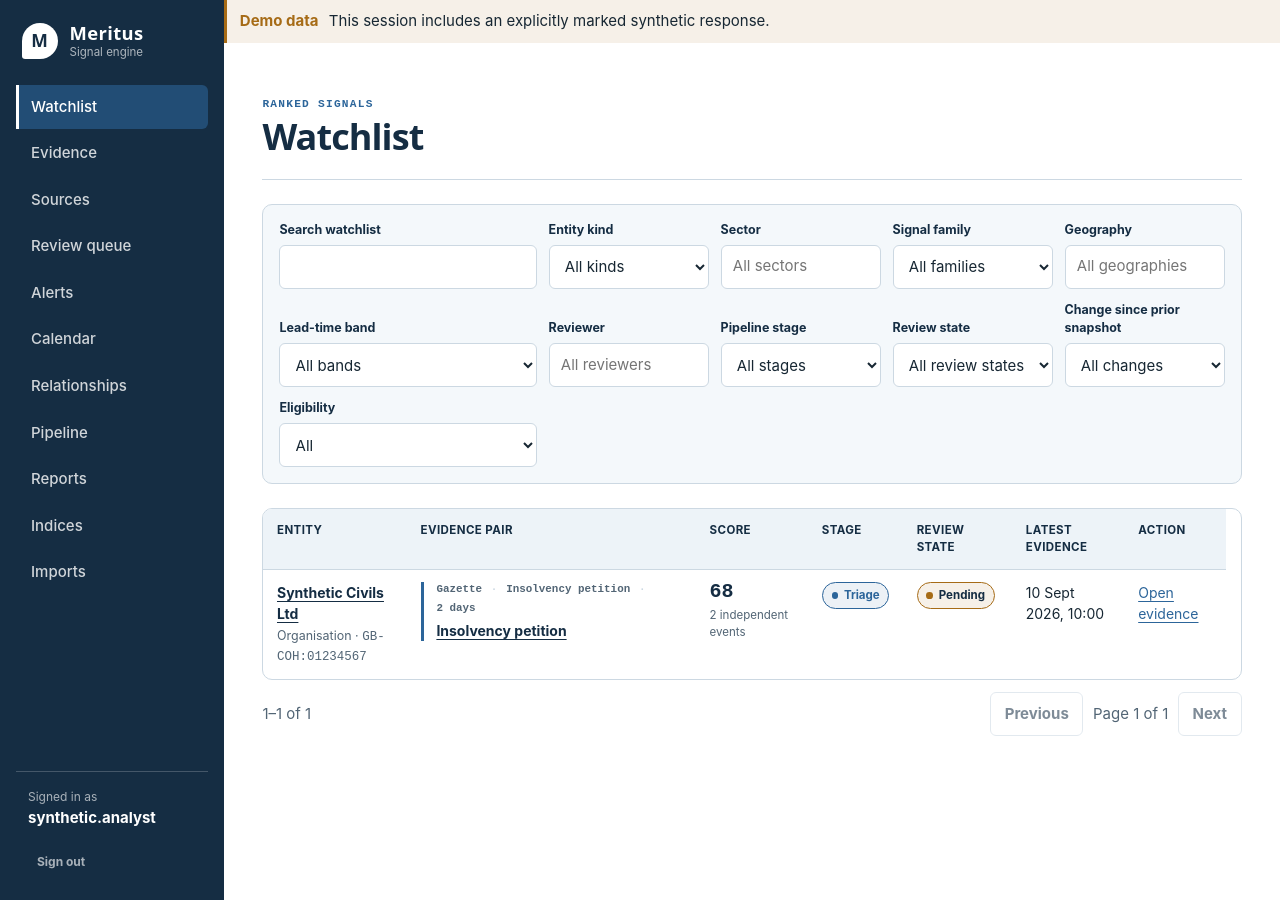
Test: analyst desk interactions › keeps failed review input available for correction
The image size is (1280, 900).
Click the link "Review queue" at (81, 246), box [31, 236, 131, 255]
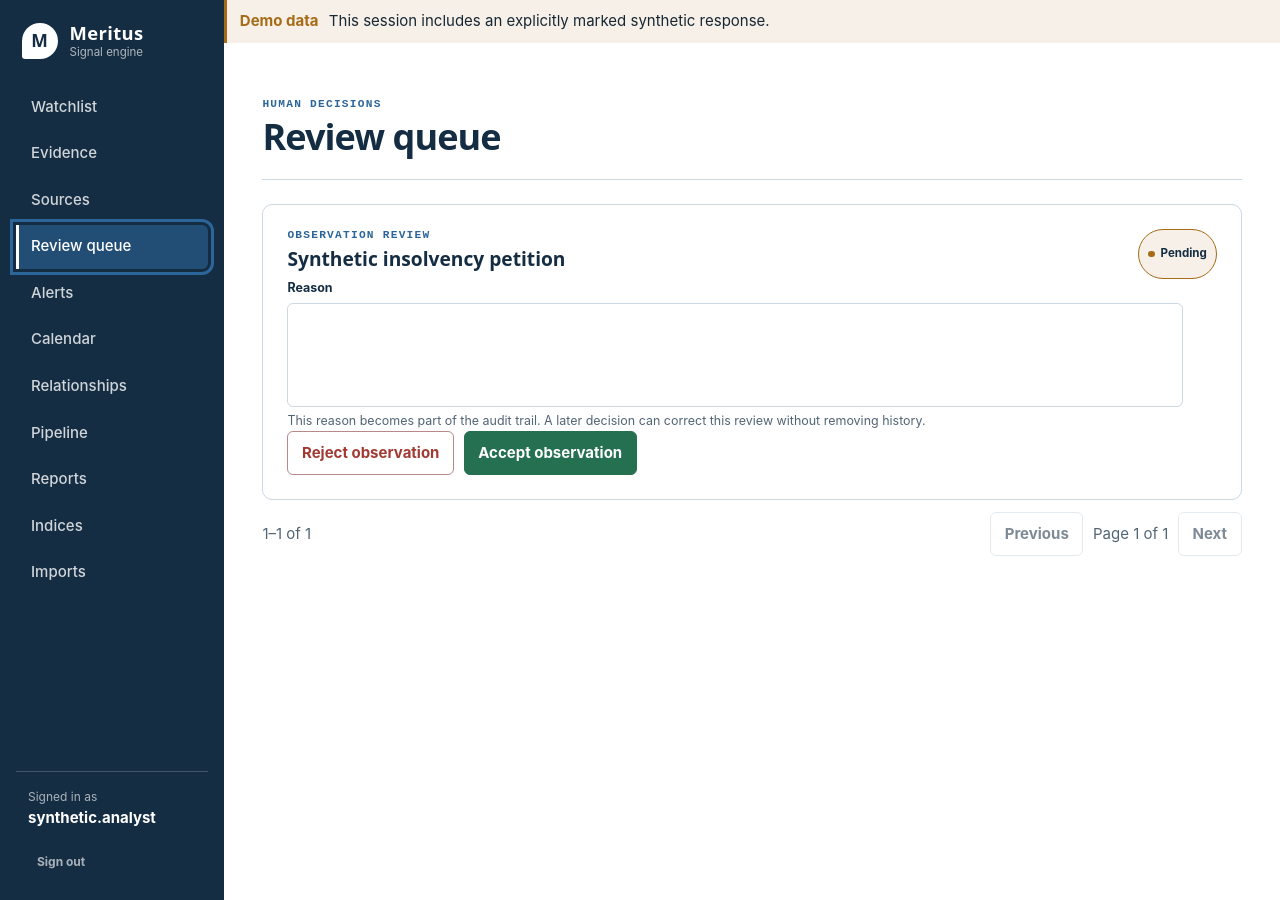
Type "Needs source confirmation" into the text box labelled "Reason" at (735, 355), box [287, 303, 1183, 407]
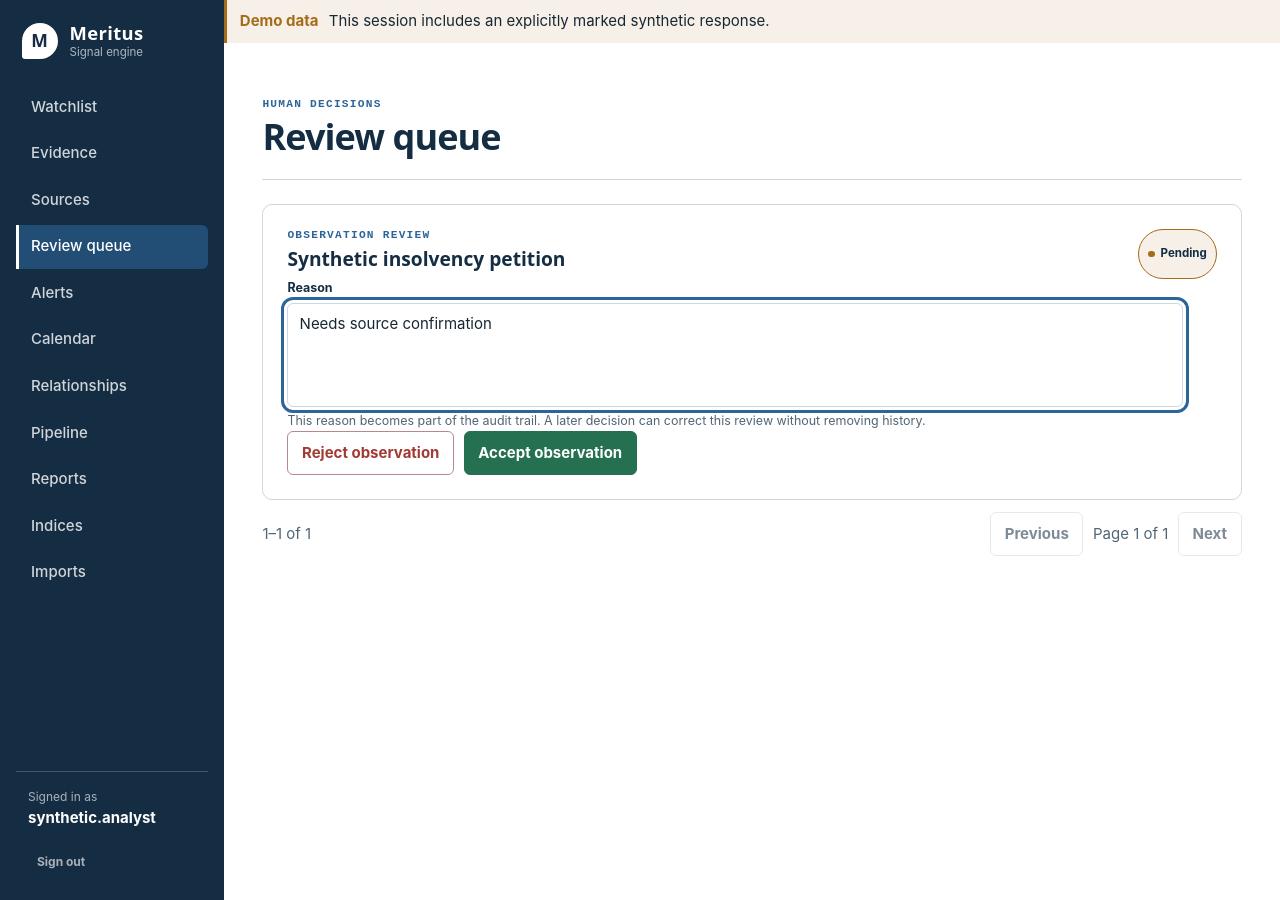
Click the button "Accept observation" at (550, 453), box [464, 431, 637, 475]
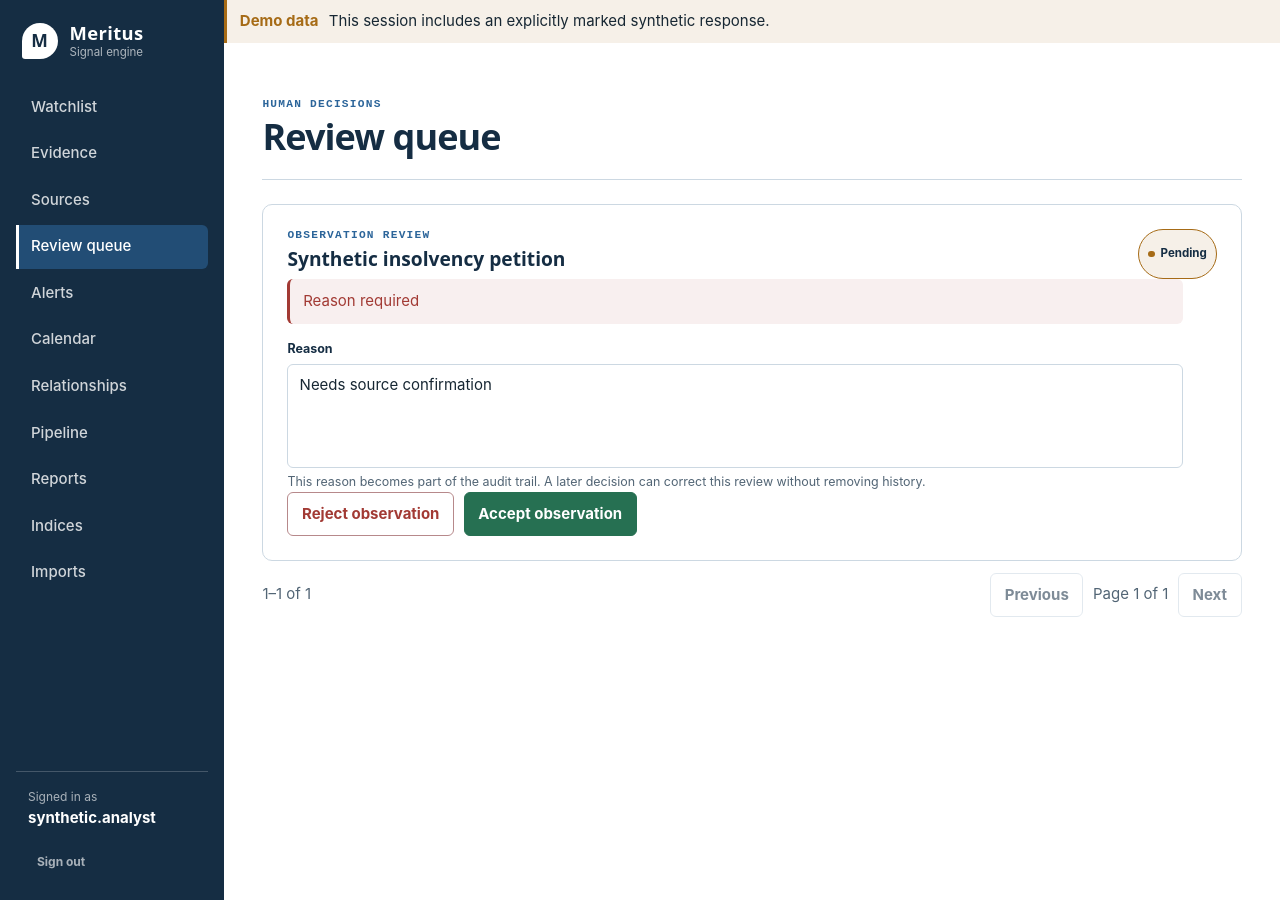
Now the text "Reason required" is shown, box [287, 279, 1183, 324]
